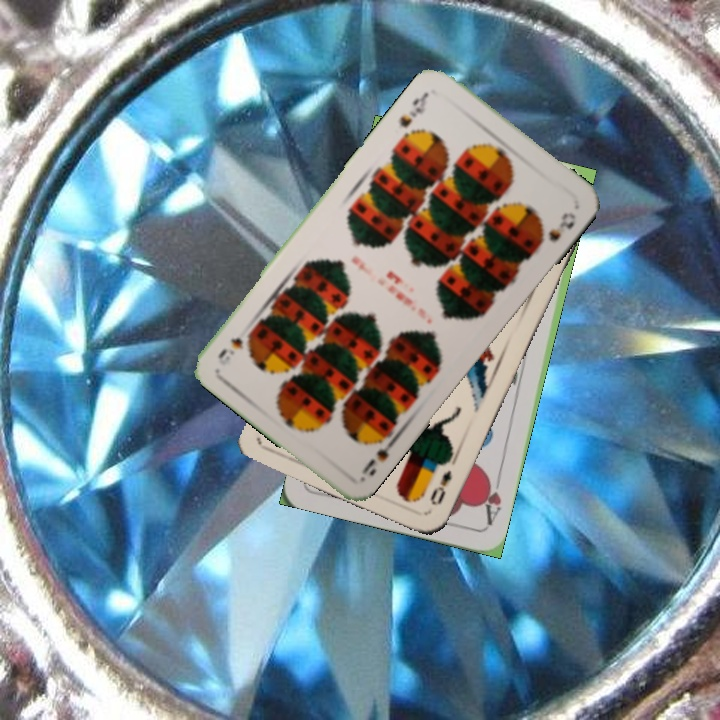EO: (425, 466, 455, 509)
HA: (477, 470, 504, 528)
S9: (357, 429, 401, 482), (395, 87, 431, 131)
